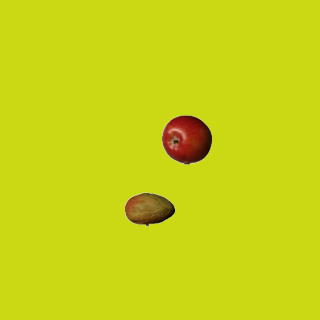Apple Braeburn: (161, 114, 211, 164)
Papaya: (124, 184, 174, 234)
